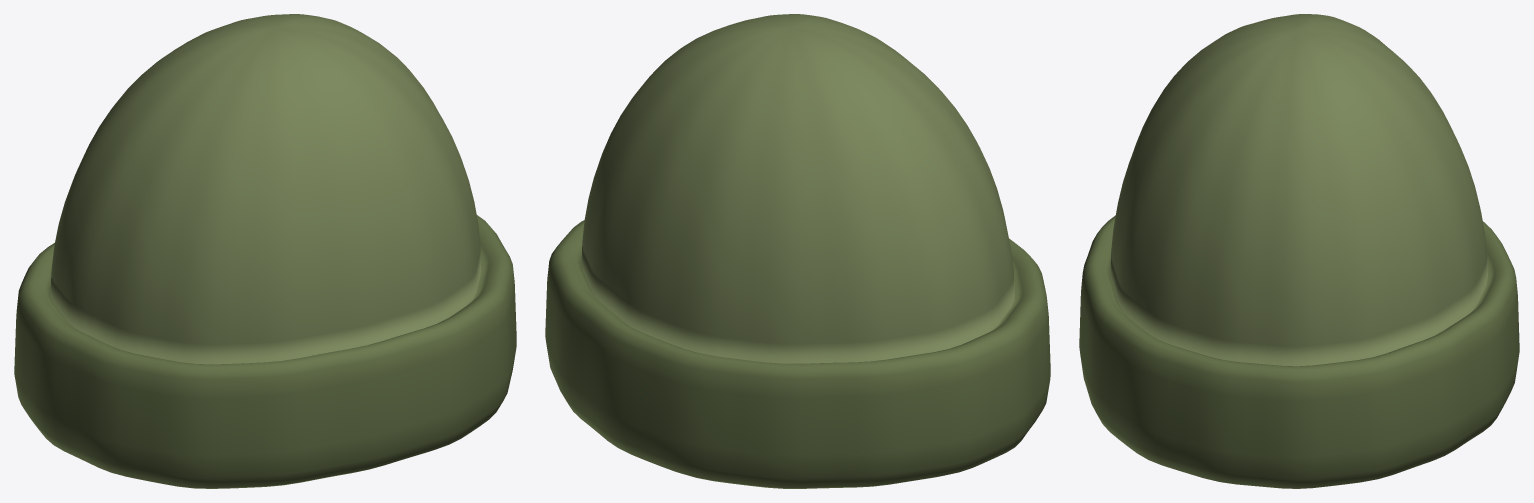
3 views of the same model, side by side, from view 1: azimuth 30°, elevation 25°; view 2: azimuth 150°, elevation 25°; view 3: azimuth 270°, elevation 25° (orthographic). The views are drawn at different scales.
Parts seen in each view (by area): view 1: Complete hollow cuffed beanie; view 2: Complete hollow cuffed beanie; view 3: Complete hollow cuffed beanie.
Boxes of the visible parts, x1,y1,x2,y2 form: Complete hollow cuffed beanie: [14, 14, 516, 488]; Complete hollow cuffed beanie: [545, 14, 1050, 488]; Complete hollow cuffed beanie: [1079, 14, 1519, 488].
Bounding box in the file's own units: 25.33 × 19.92 × 21.78.
